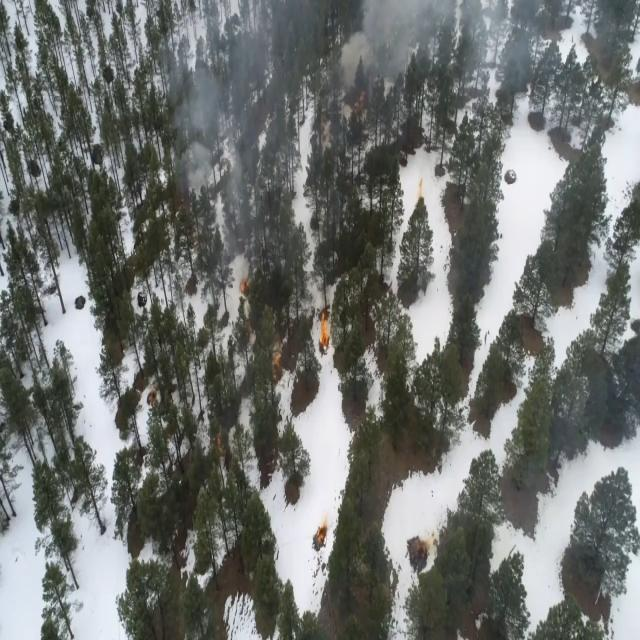Fire: (310, 310, 336, 368), (406, 526, 440, 566), (268, 350, 294, 386), (340, 95, 370, 125), (308, 524, 333, 550), (232, 268, 253, 298)
Smoke: (169, 3, 280, 276), (338, 0, 536, 100)
